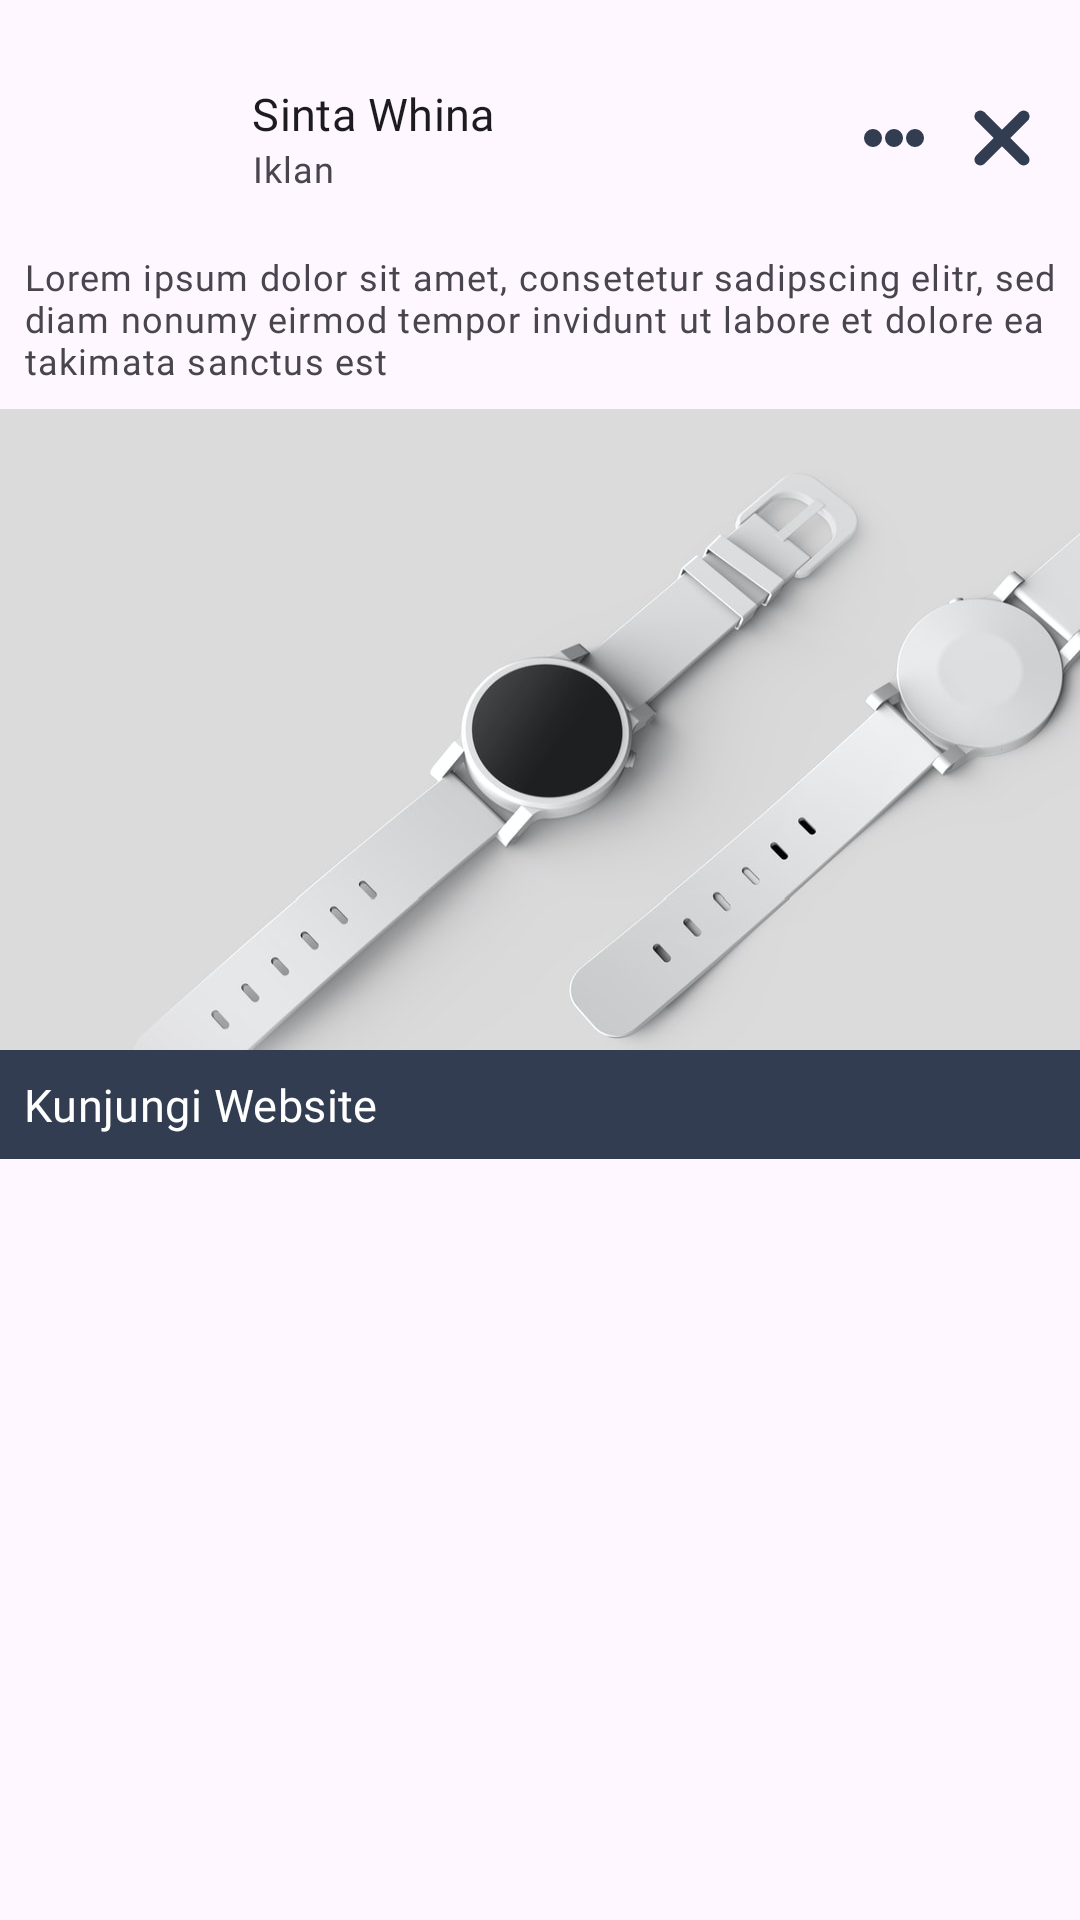

Where to tap for icons on this 1080*1920 app screen, as [x,y]:
cancel: [1002,138]
more: [894,138]
